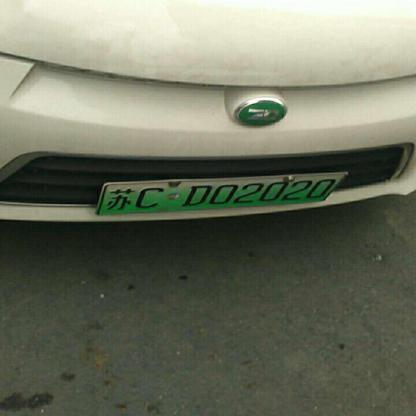lp: (95, 174, 346, 214)
